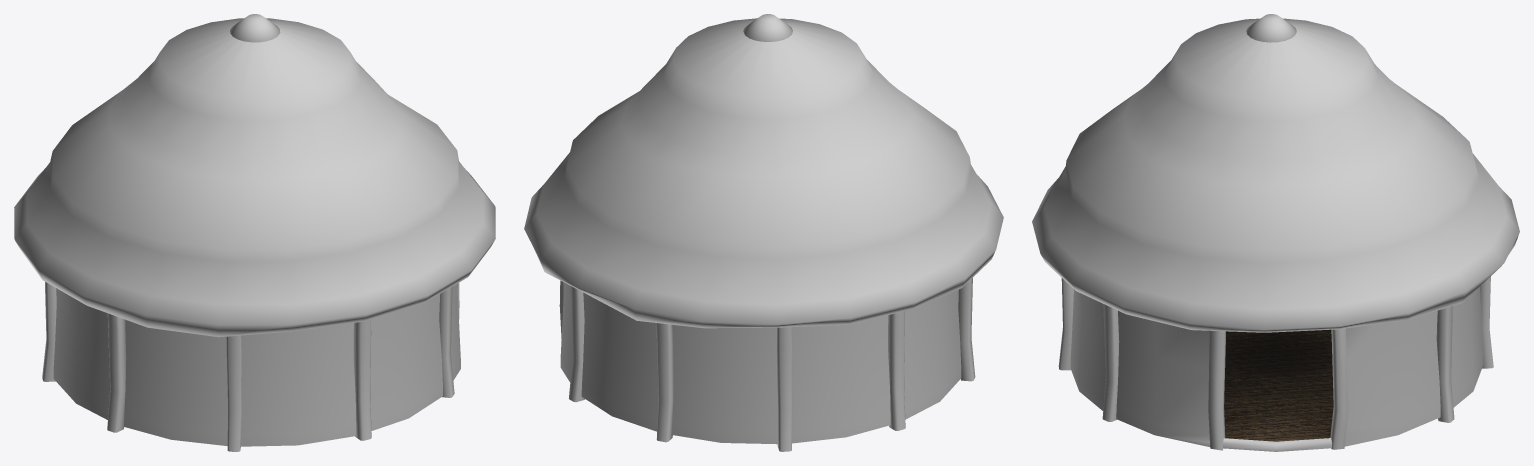
Rendered from Hovel 1.fbx.
3 renders of one model, left to right at view 1: azimuth 30°, elevation 25°; view 2: azimuth 150°, elevation 25°; view 3: azimuth 270°, elevation 25°, orthographic.
Visible parts, largest first — view 1: HovelFloor; view 2: HovelFloor; view 3: HovelFloor.
Boxes of the visible parts, x1,y1,x2,y2 form: HovelFloor: [14, 14, 495, 451]; HovelFloor: [524, 14, 1003, 451]; HovelFloor: [1032, 14, 1519, 451].
Bounding box in the file's own units: 16.42 × 12.99 × 16.42.
